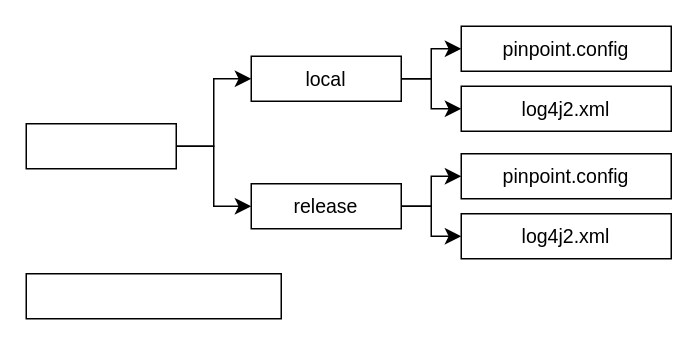
The diagram is 698 pixels wide and 345 high, and some of its shapes have lost their labels. The centre of each missing label's shape, as x and y in pixels:
pinpoint-root.config: point (153, 295)
profiles: point (100, 145)
